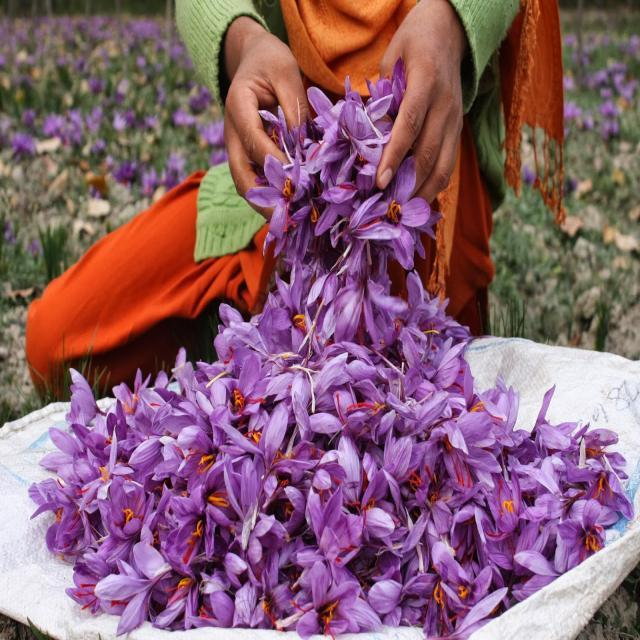Flower: (36, 94, 634, 621)
stigma: (222, 378, 248, 422), (439, 459, 468, 497), (339, 397, 382, 419), (228, 385, 254, 415), (203, 488, 230, 511)
